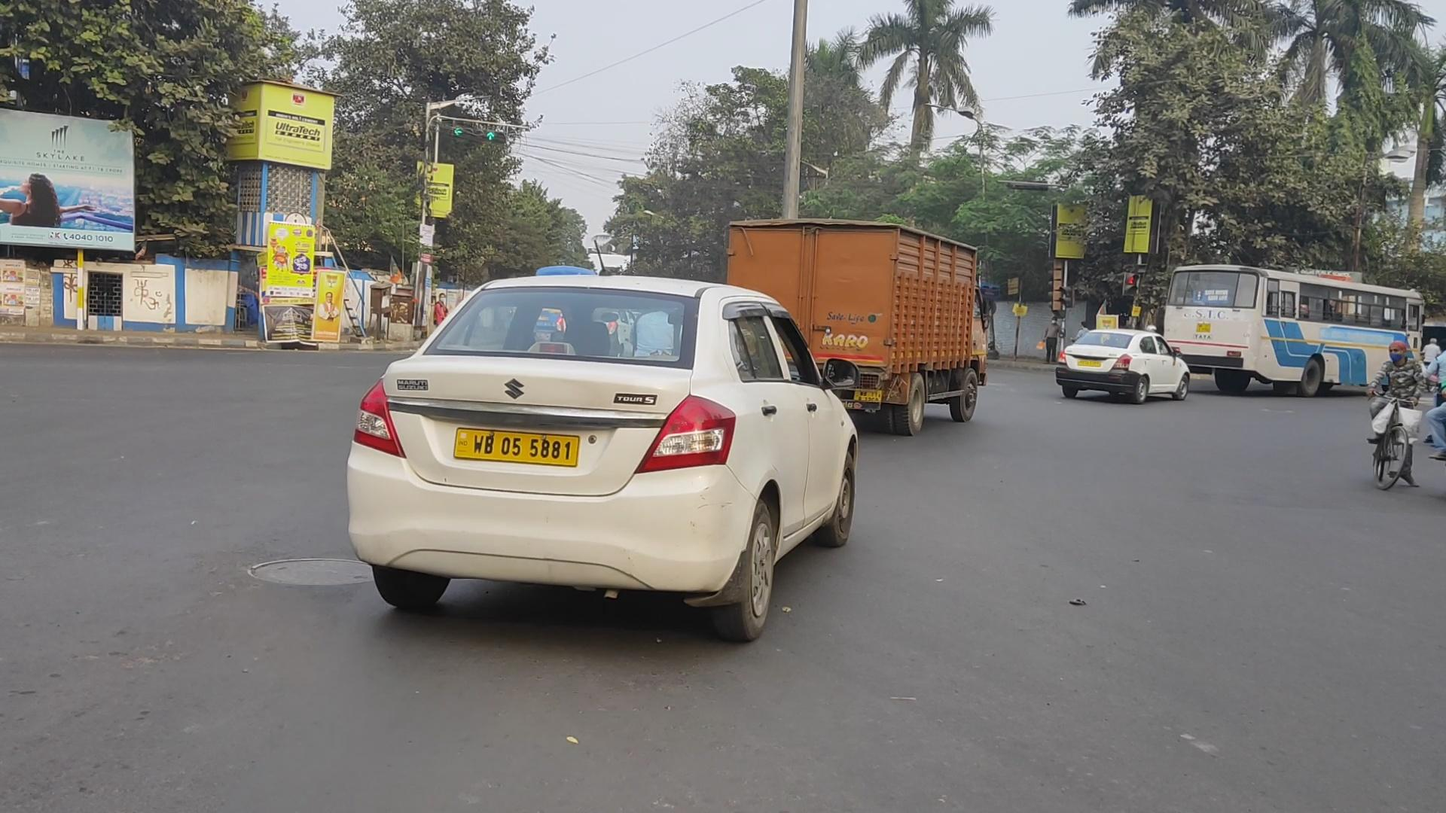Bus: (1162, 263, 1425, 397)
bike: (1367, 340, 1426, 491)
car: (347, 271, 859, 644), (1056, 329, 1191, 405)
truck: (726, 218, 996, 437)
